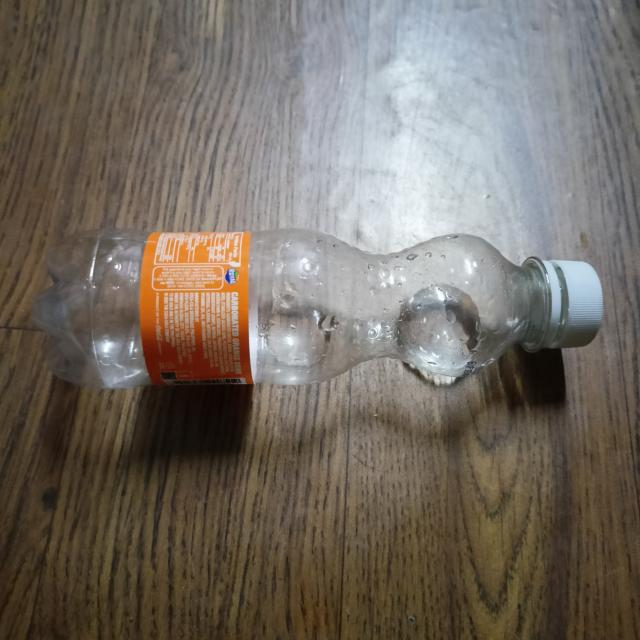Bottle: (35, 229, 604, 389)
